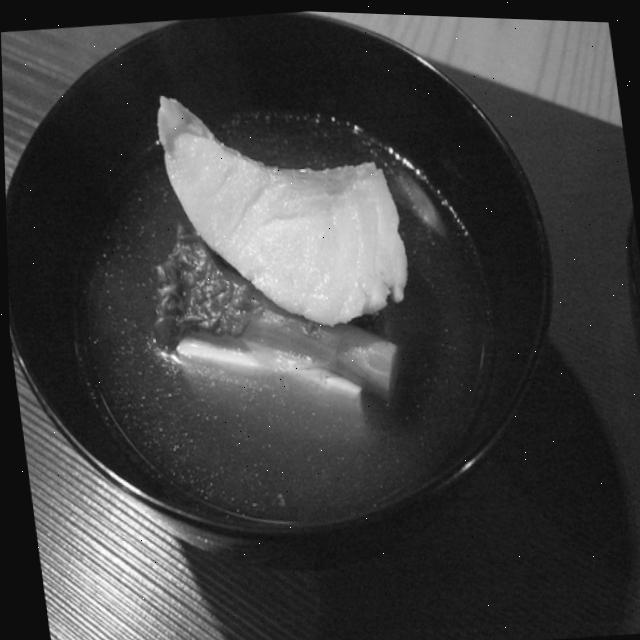汤锅炖物: (45, 67, 518, 537)
